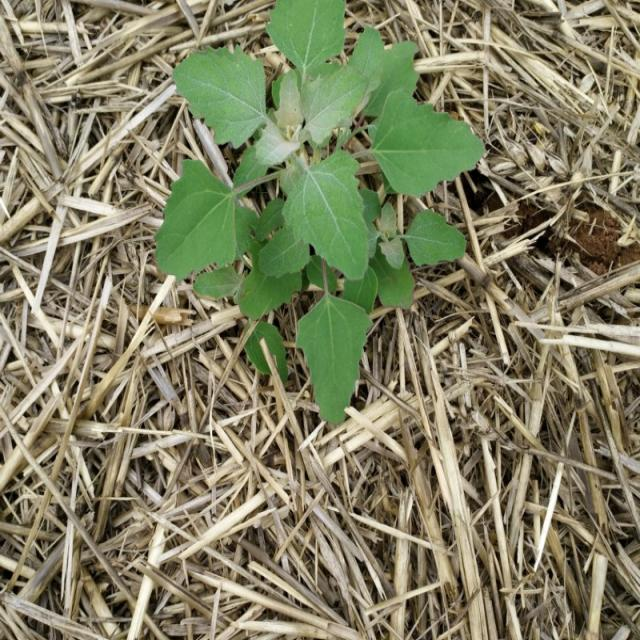ca: (157, 0, 486, 428)
